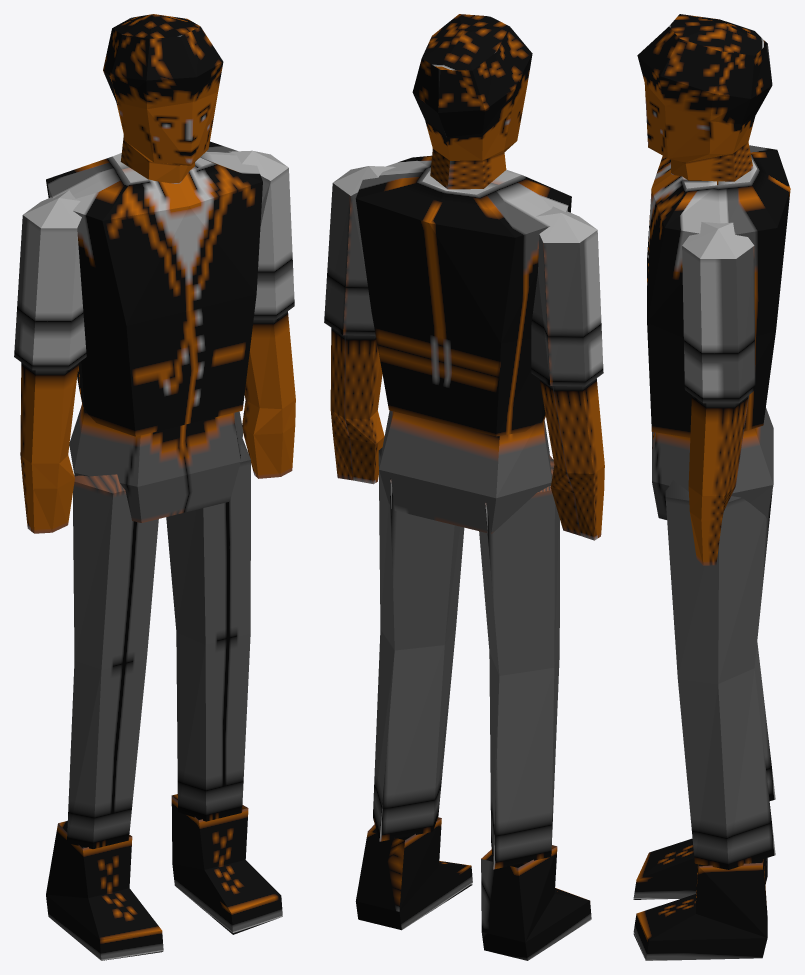
File: Man3d_v2.fbx
3 views of the same model, side by side, from view 1: azimuth 30°, elevation 25°; view 2: azimuth 150°, elevation 25°; view 3: azimuth 270°, elevation 25° (orthographic).
Visible parts, largest first — view 1: man; view 2: man; view 3: man.
Part boxes in pixels (x1,y1,x2,y2): man: [14, 14, 295, 960]; man: [324, 14, 604, 960]; man: [633, 14, 790, 960].
Bounding box in the file's own units: 25.78 × 83.61 × 13.34.
1 material, 1 textured.
